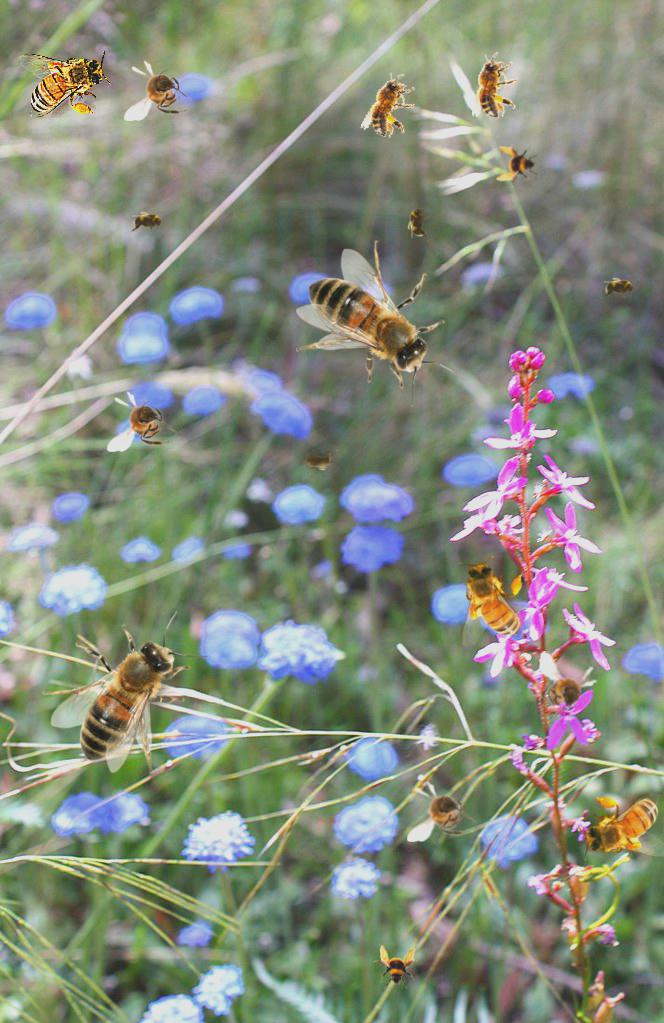Bee: (42, 611, 209, 773), (296, 240, 458, 407), (458, 556, 526, 649), (18, 50, 111, 118), (578, 793, 664, 861), (529, 650, 602, 730), (359, 66, 423, 143), (407, 781, 477, 842), (124, 60, 194, 121), (107, 391, 177, 452), (472, 52, 517, 118), (496, 144, 540, 188), (373, 945, 417, 989), (298, 449, 338, 471), (600, 277, 640, 299), (128, 211, 168, 233), (407, 202, 429, 242)
